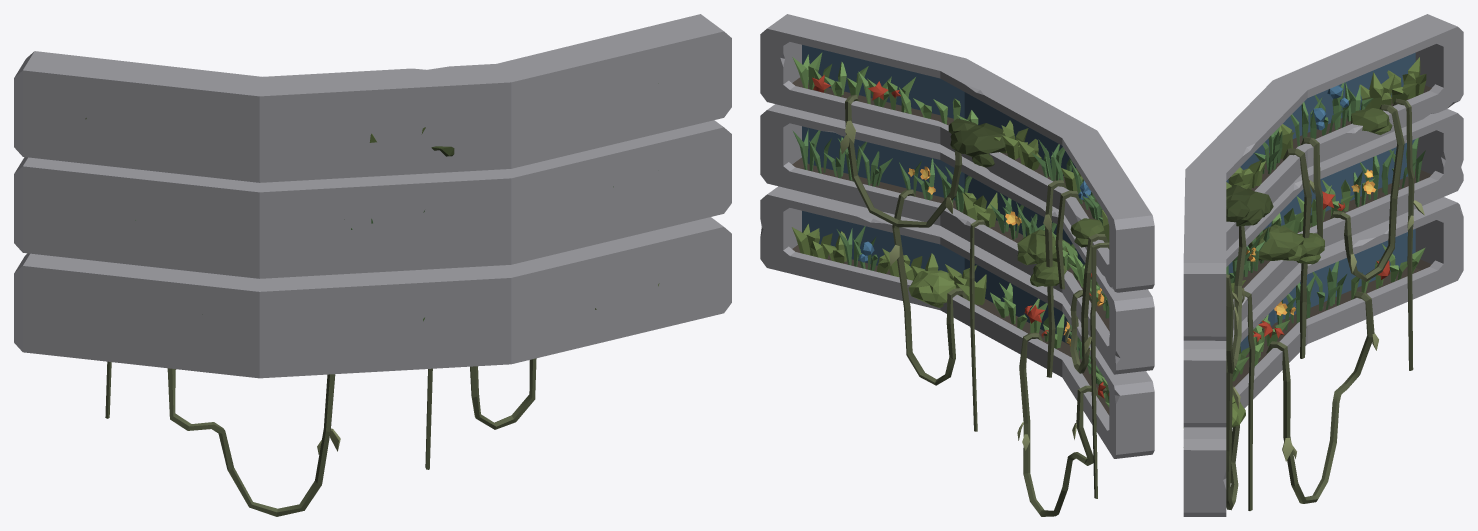
The model's file is SM_Bld_Hydroponics_WallPlantsUpper_R_01.fbx.
3 renders of one model, left to right at view 1: azimuth 30°, elevation 25°; view 2: azimuth 150°, elevation 25°; view 3: azimuth 270°, elevation 25°, orthographic. The views are drawn at different scales.
Visible parts, largest first — view 1: SM_Bld_Hydroponics_WallPlantsUpper_R_01_LOD0; view 2: SM_Bld_Hydroponics_WallPlantsUpper_R_01_LOD0; view 3: SM_Bld_Hydroponics_WallPlantsUpper_R_01_LOD0.
Part boxes in pixels (left/top/right/bottom): SM_Bld_Hydroponics_WallPlantsUpper_R_01_LOD0: left=14, top=14, right=731, bottom=516; SM_Bld_Hydroponics_WallPlantsUpper_R_01_LOD0: left=760, top=14, right=1154, bottom=516; SM_Bld_Hydroponics_WallPlantsUpper_R_01_LOD0: left=1183, top=14, right=1463, bottom=516.
Size of the model in its own units: 387 by 833 by 615.
1 material, 1 textured.
